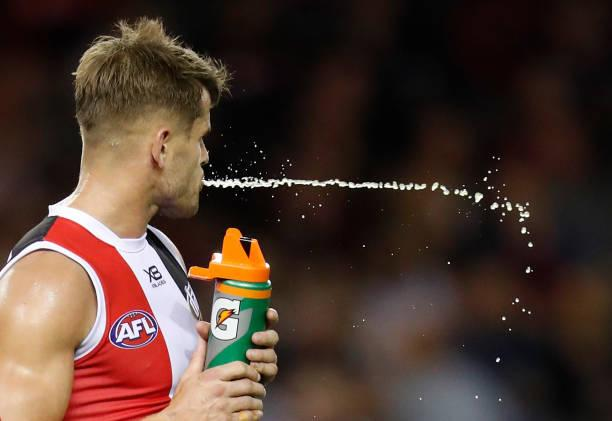Spitting: (50, 20, 397, 212)
